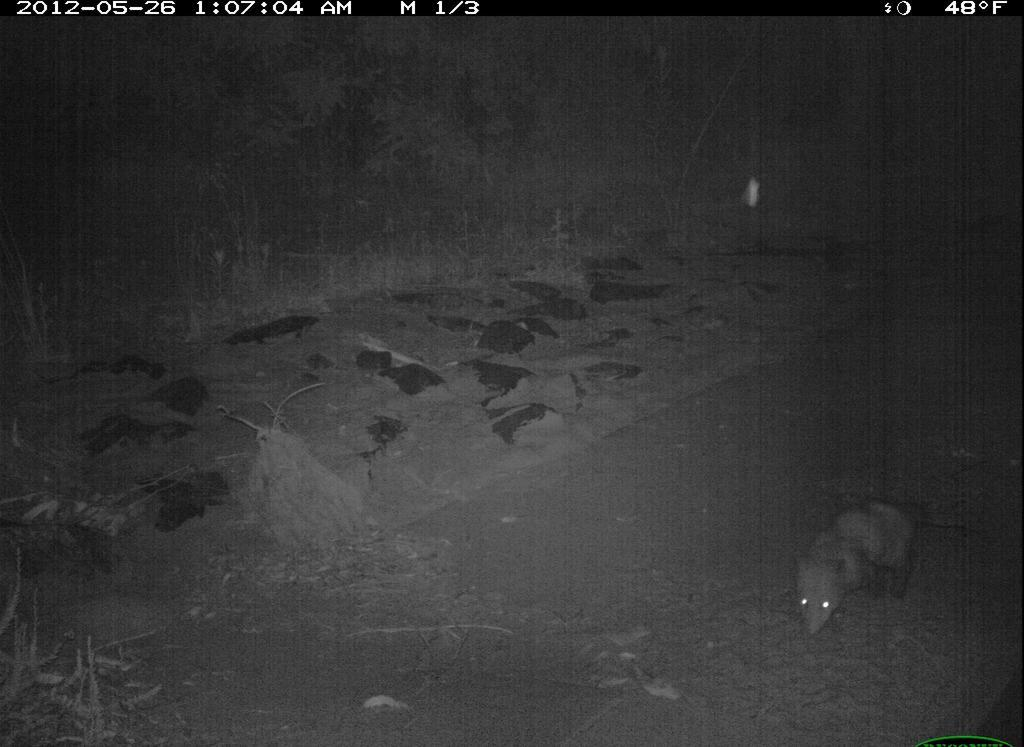opossum: (788, 484, 987, 644)
